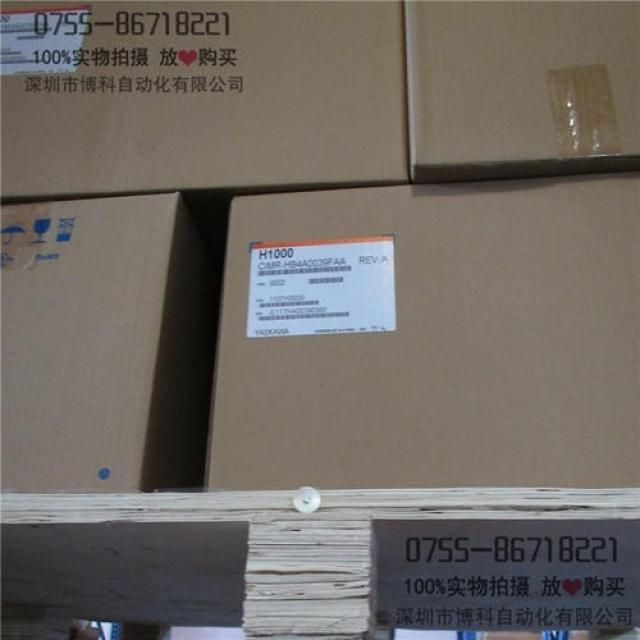box: (204, 165, 639, 493), (0, 1, 412, 202), (0, 193, 221, 495), (406, 2, 639, 183)
